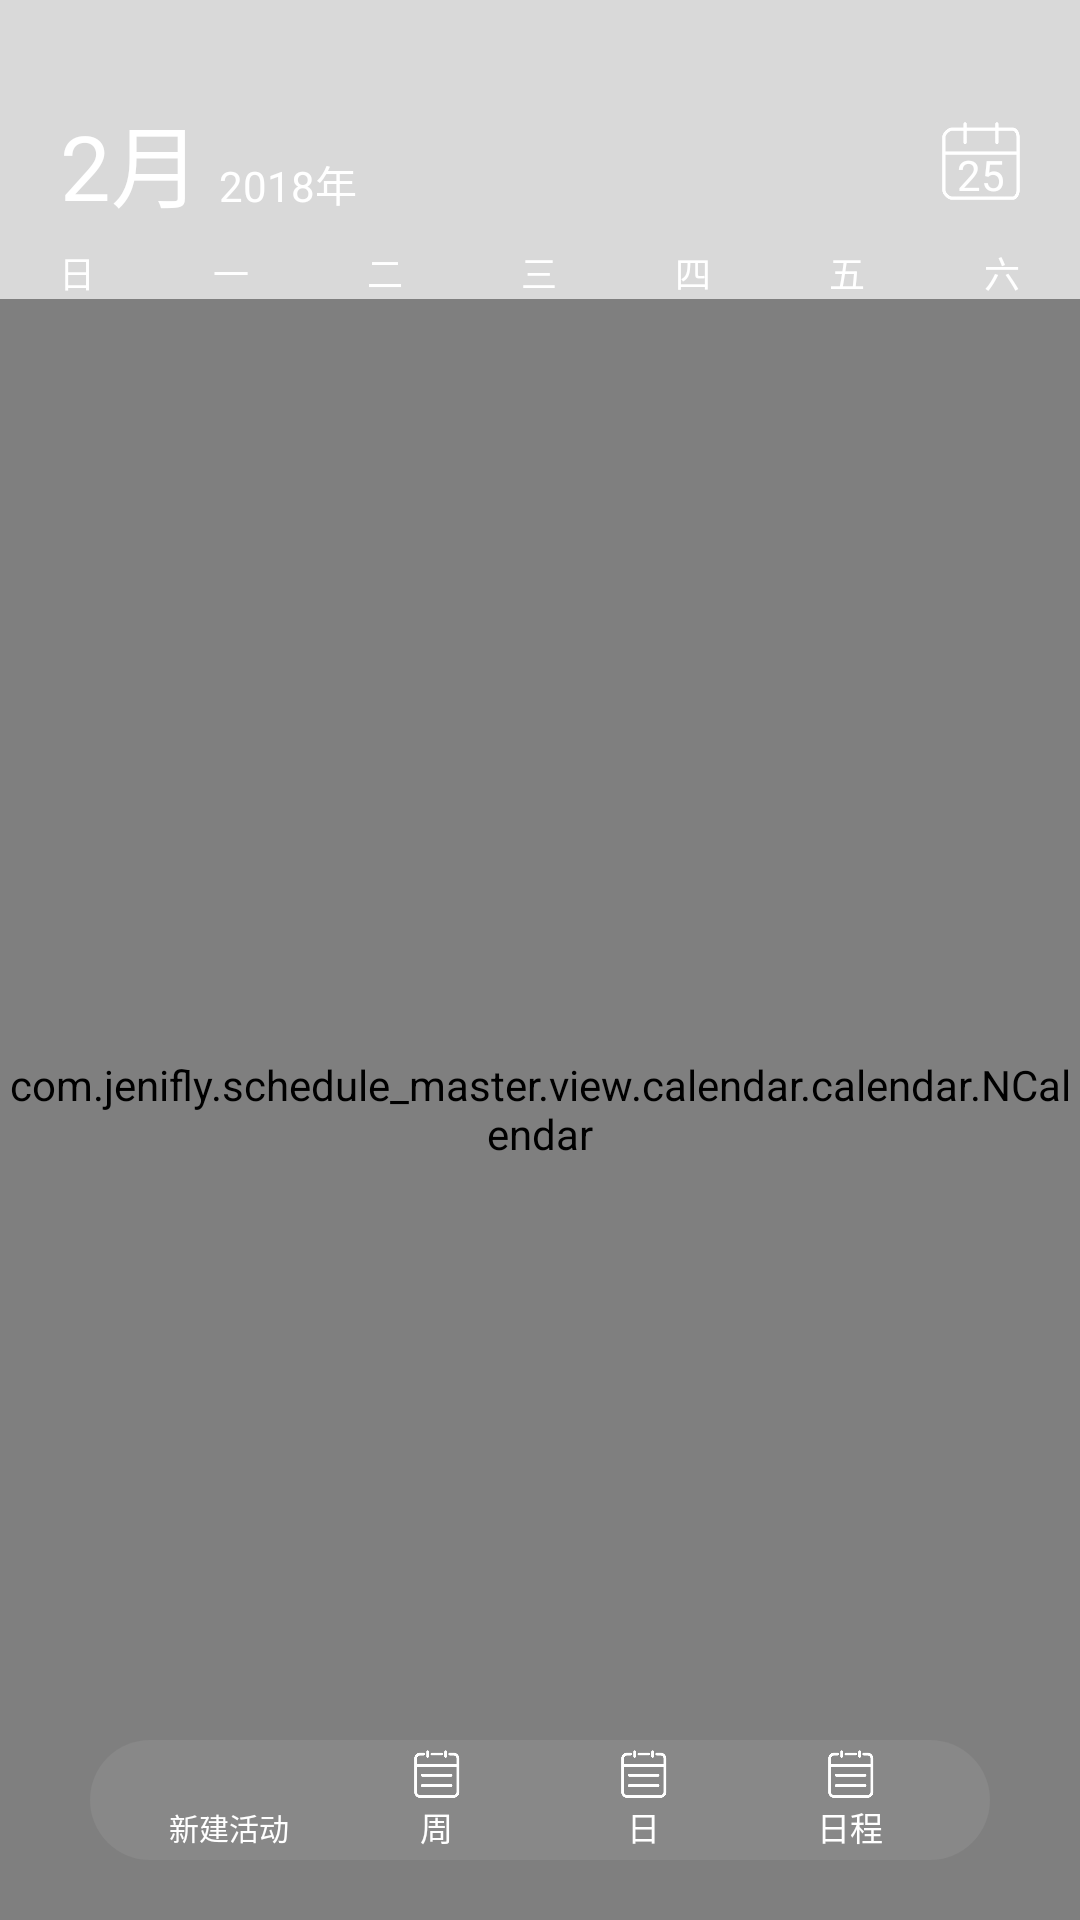

Screen size 1080×1920. Icon name, then its center in pixels as [x,y]:
date: [981,161]
